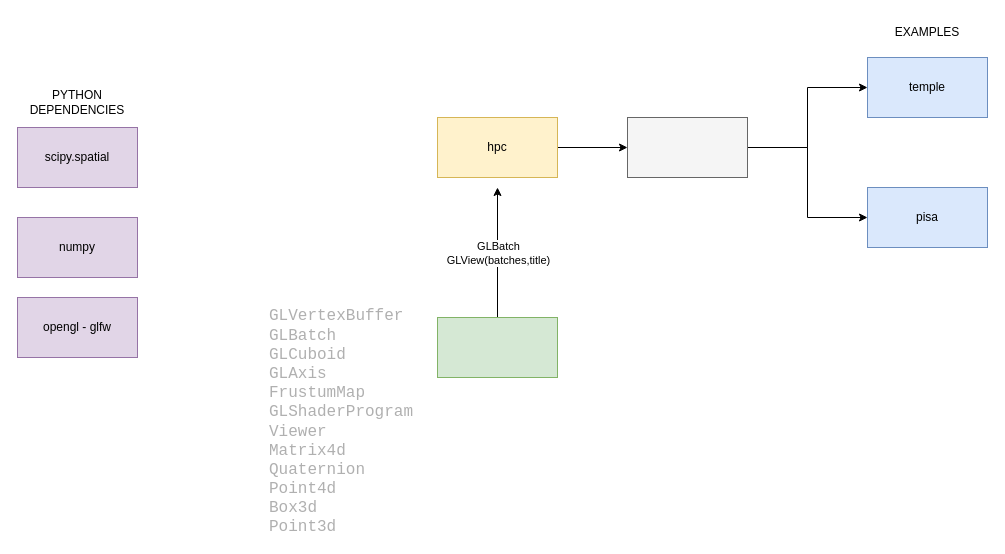
Some shapes in this 1005 by 554 pixel diagram are drawn without their labels. The shapes that lost their labels are listed below. From the top down, each one's centre as x and y in pixels, then its label:
the point at 687,147: fenvs
the point at 497,347: viewer
